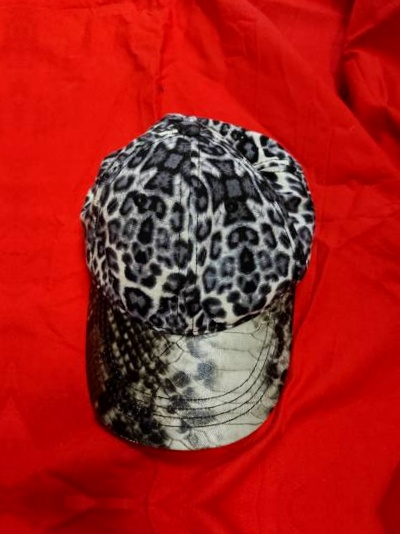Hat: (56, 67, 327, 471)
